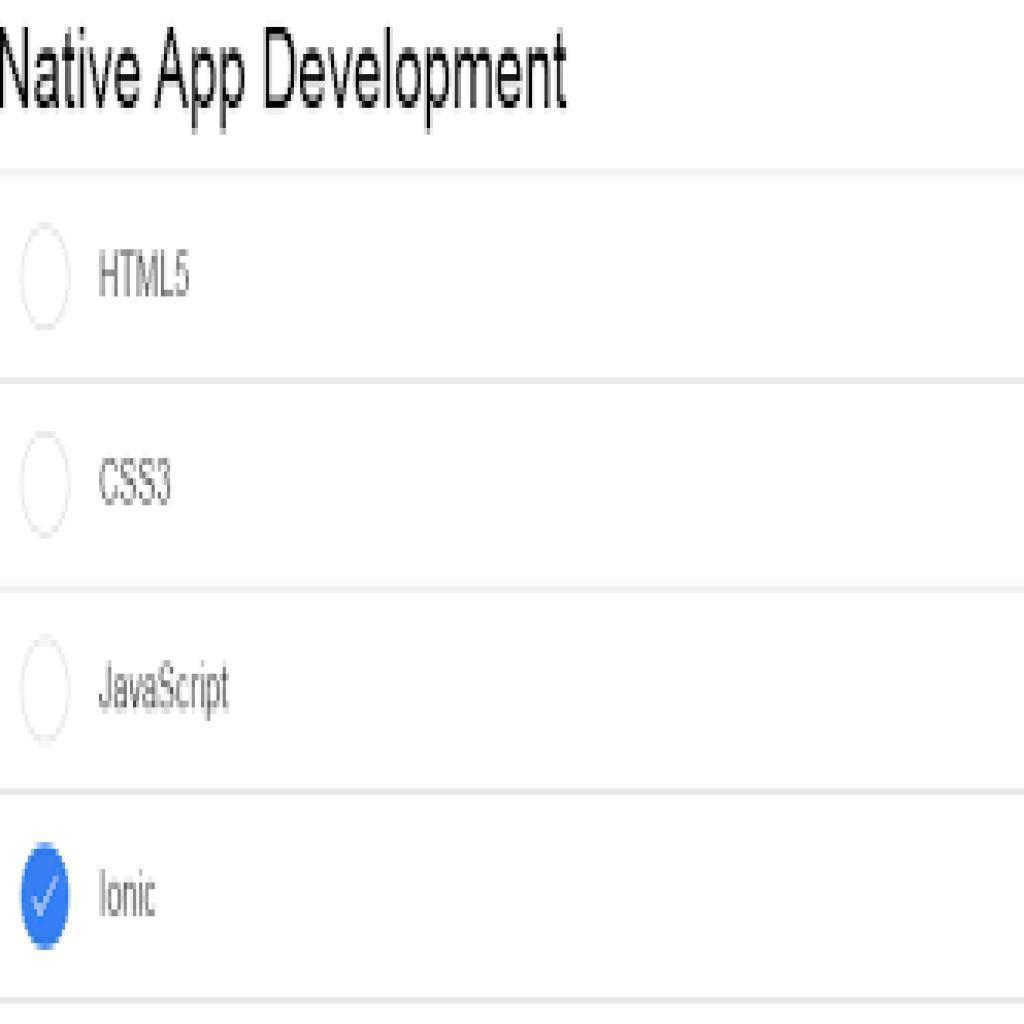radio: (11, 213, 76, 339), (15, 418, 76, 551), (12, 630, 77, 750), (21, 838, 69, 953)
